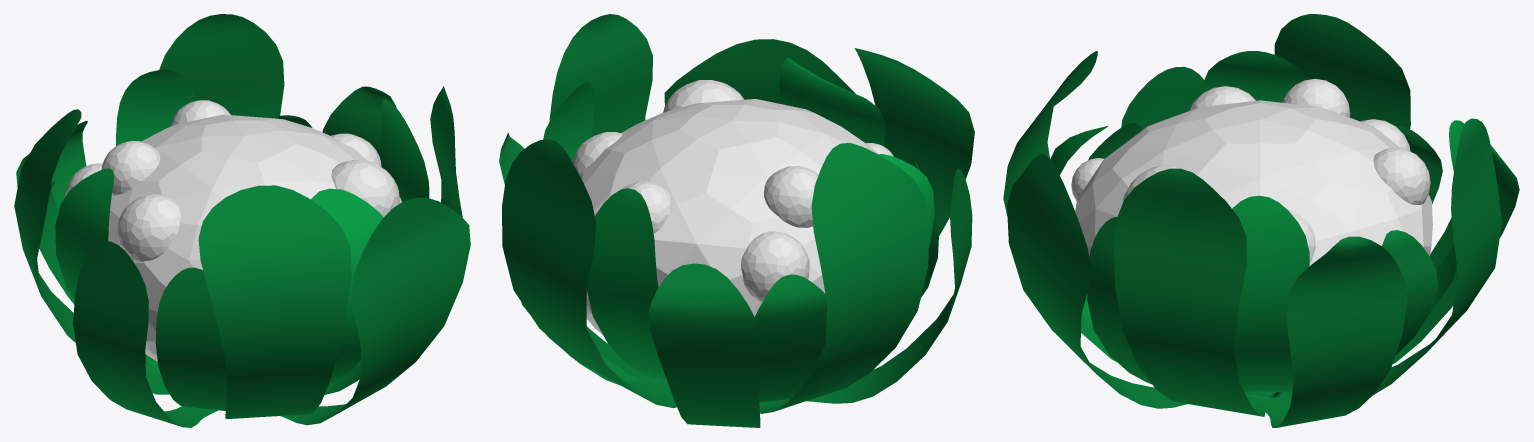
The model's file is coliflor 2 (1).fbx.
3 renders of one model, left to right at view 1: azimuth 30°, elevation 25°; view 2: azimuth 150°, elevation 25°; view 3: azimuth 270°, elevation 25°, orthographic. The views are drawn at different scales.
Visible parts, largest first — view 1: Coliflor 2; view 2: Coliflor 2; view 3: Coliflor 2.
Boxes of the visible parts, box(x1,y1,x2,y2) form: Coliflor 2: box(14, 14, 470, 427); Coliflor 2: box(499, 14, 974, 427); Coliflor 2: box(1003, 14, 1519, 427).
Size of the model in its own units: 225 by 161 by 246.
